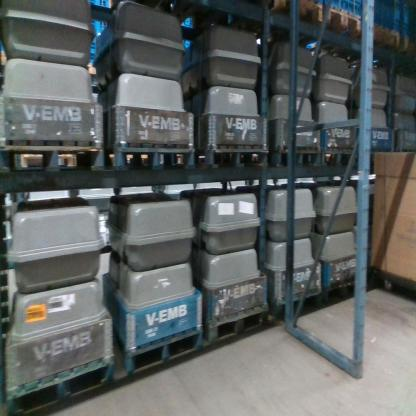pallets: (4, 303, 273, 415), (0, 138, 361, 184)
